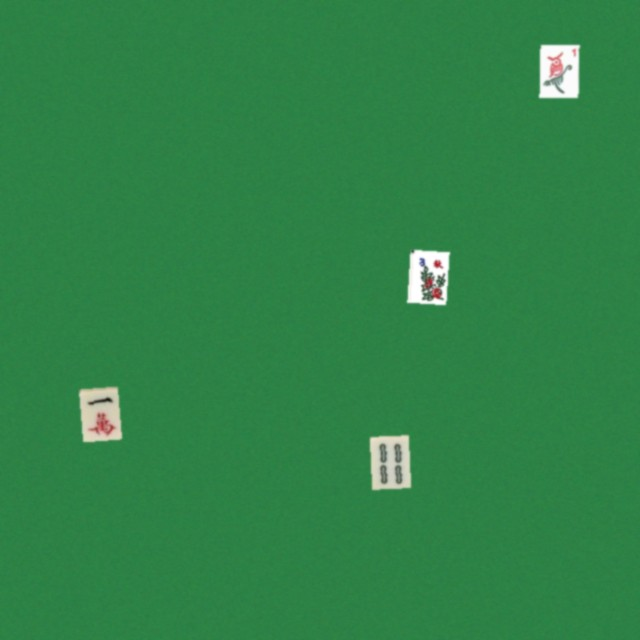tile: (369, 435, 408, 488), (407, 249, 446, 302), (78, 386, 117, 439), (539, 44, 578, 97)
